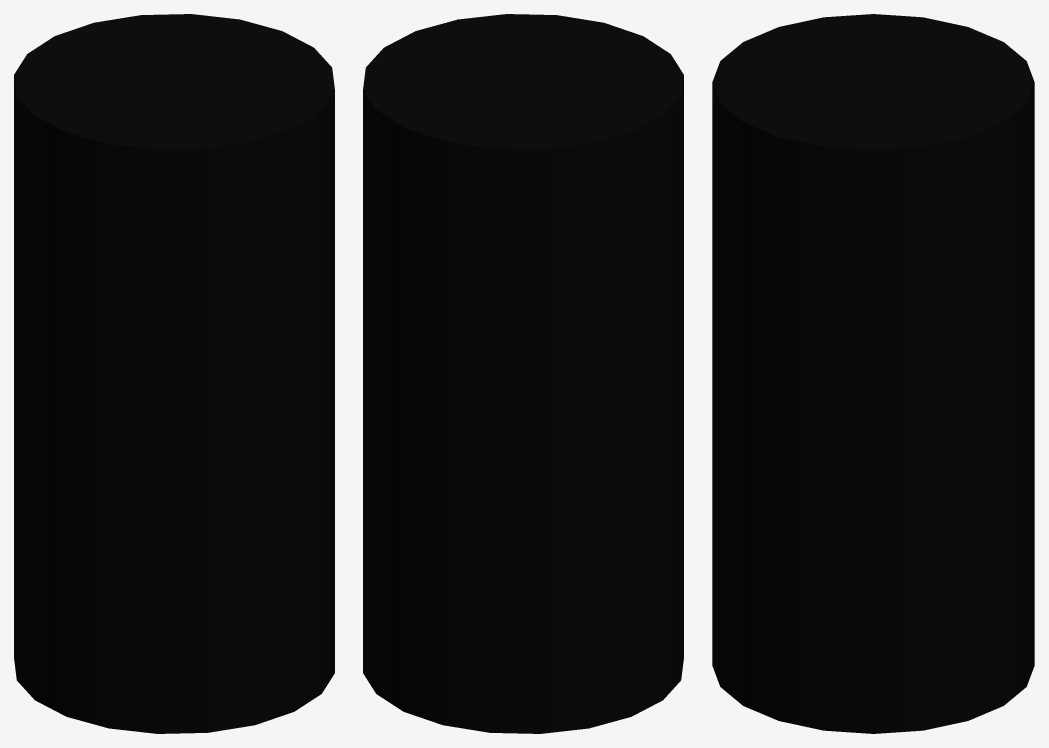
The model's file is wrr.fbx.
3 views of the same model, side by side, from view 1: azimuth 30°, elevation 25°; view 2: azimuth 150°, elevation 25°; view 3: azimuth 270°, elevation 25° (orthographic).
Parts seen in each view (by area): view 1: Emission 1; view 2: Emission 1; view 3: Emission 1.
Boxes of the visible parts, x1,y1,x2,y2 form: Emission 1: (14, 14, 334, 733); Emission 1: (363, 14, 683, 733); Emission 1: (712, 14, 1034, 733).
Bounding box in the file's own units: 1 × 2 × 1.
Materials: 1 (1 with a texture image).
